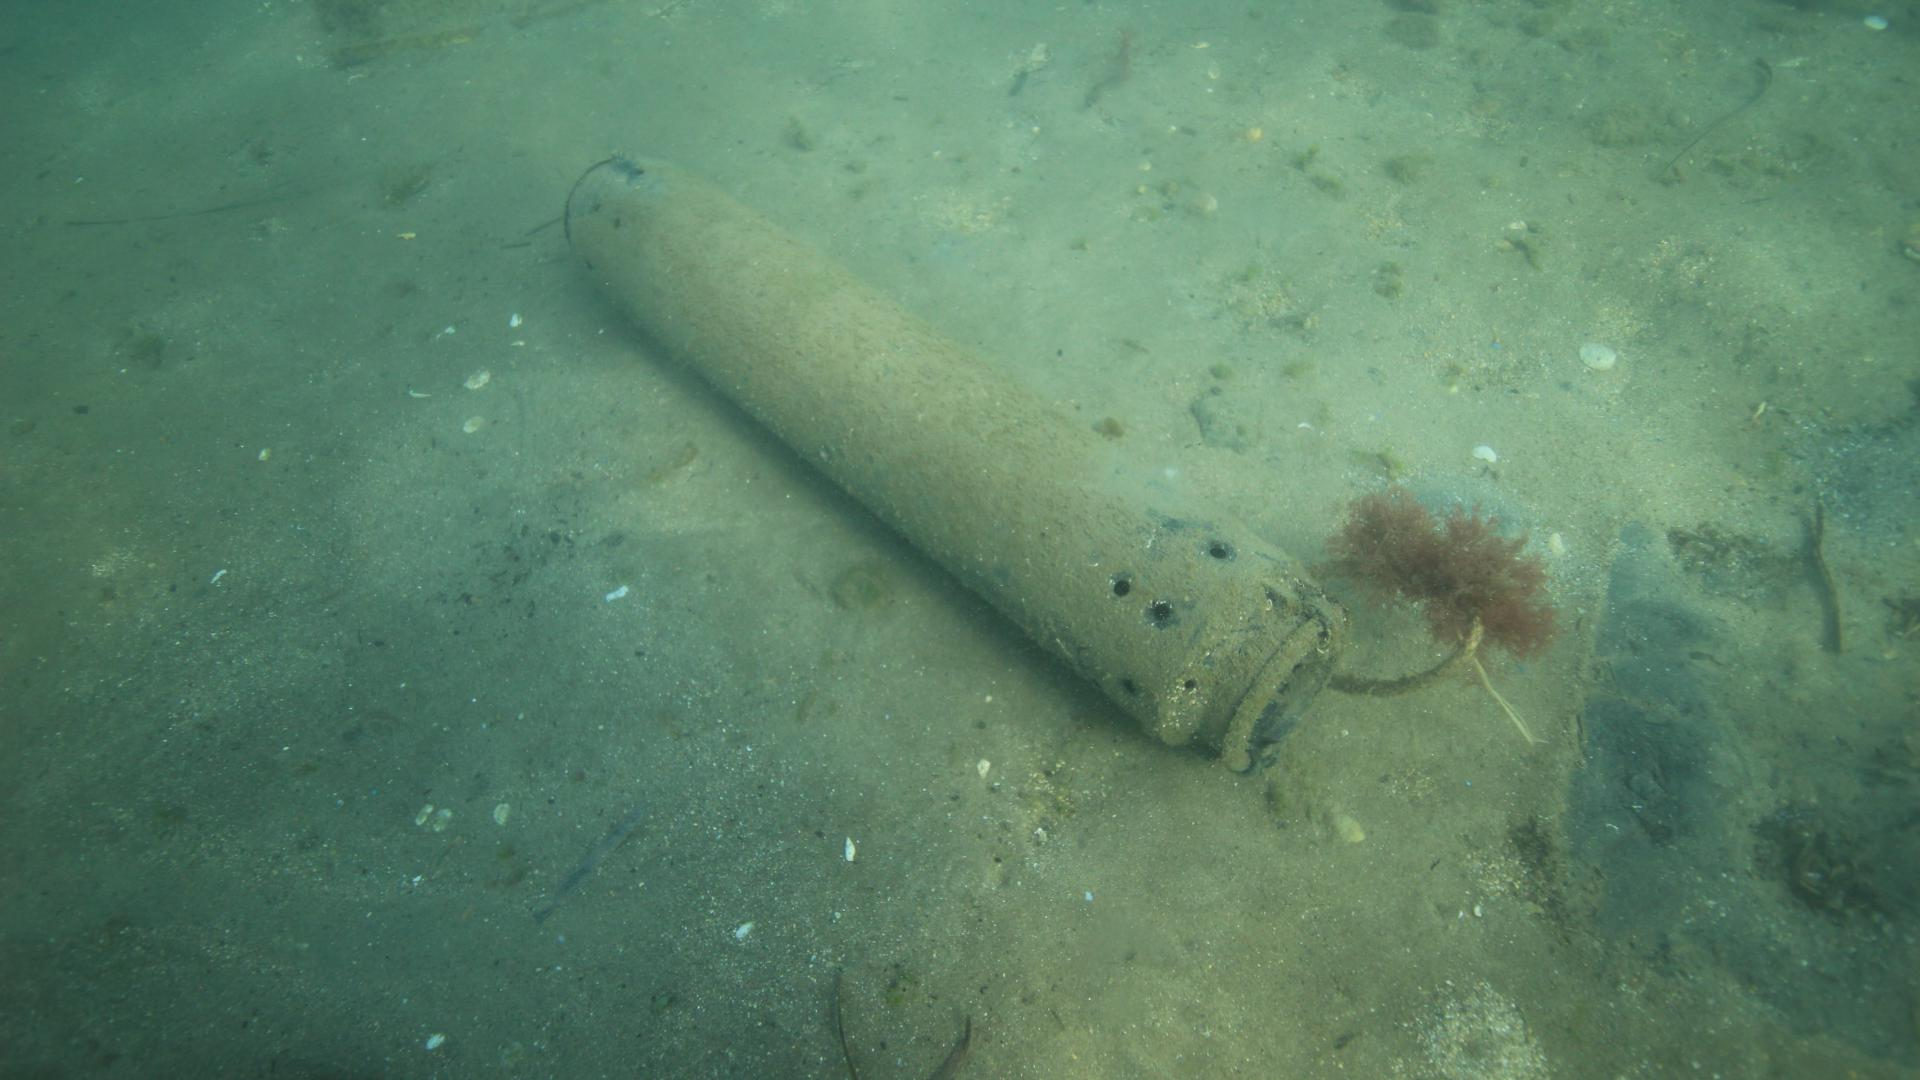eel fish trap: (560, 149, 1349, 781)
rope: (1328, 618, 1486, 699)
